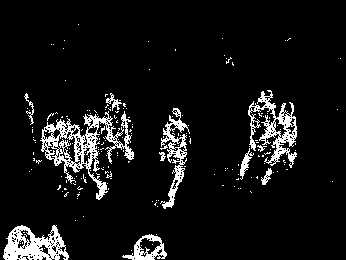person: (157, 108, 193, 210), (238, 88, 278, 177), (260, 101, 297, 185), (56, 112, 91, 199), (82, 108, 113, 201), (103, 90, 135, 165)
